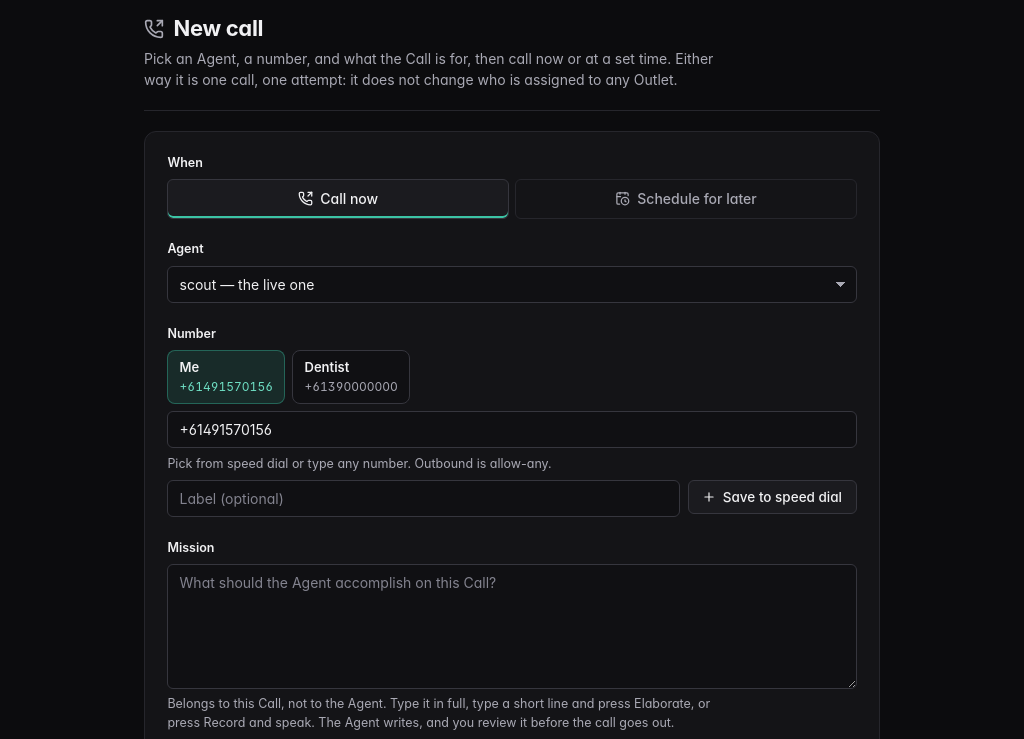
it: Place a call › puts an expanded Mission in the editable field and does not place
Select "scout — the live one" in the dropdown with test id "place-agent" at x=512, y=284, box [167,266,857,303]
Type "move thursday" into the text box with test id "place-mission" at x=512, y=626, box [167,564,857,689]
(page scrolled)
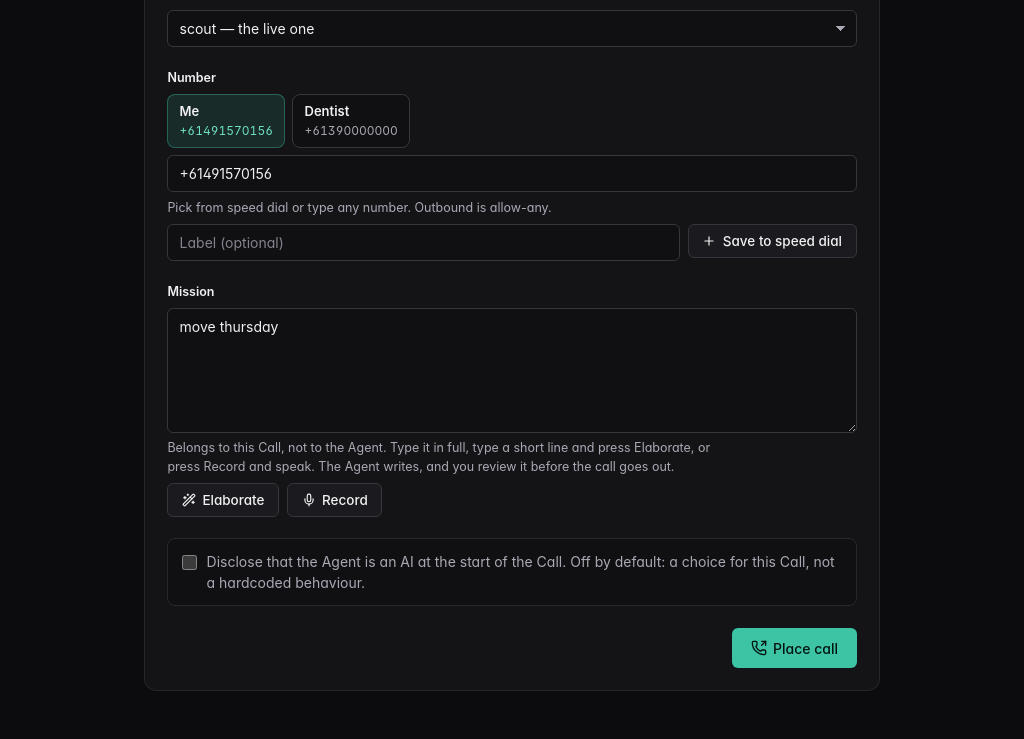
Click the button with test id "place-expand" at x=223, y=500, box [167,483,279,517]
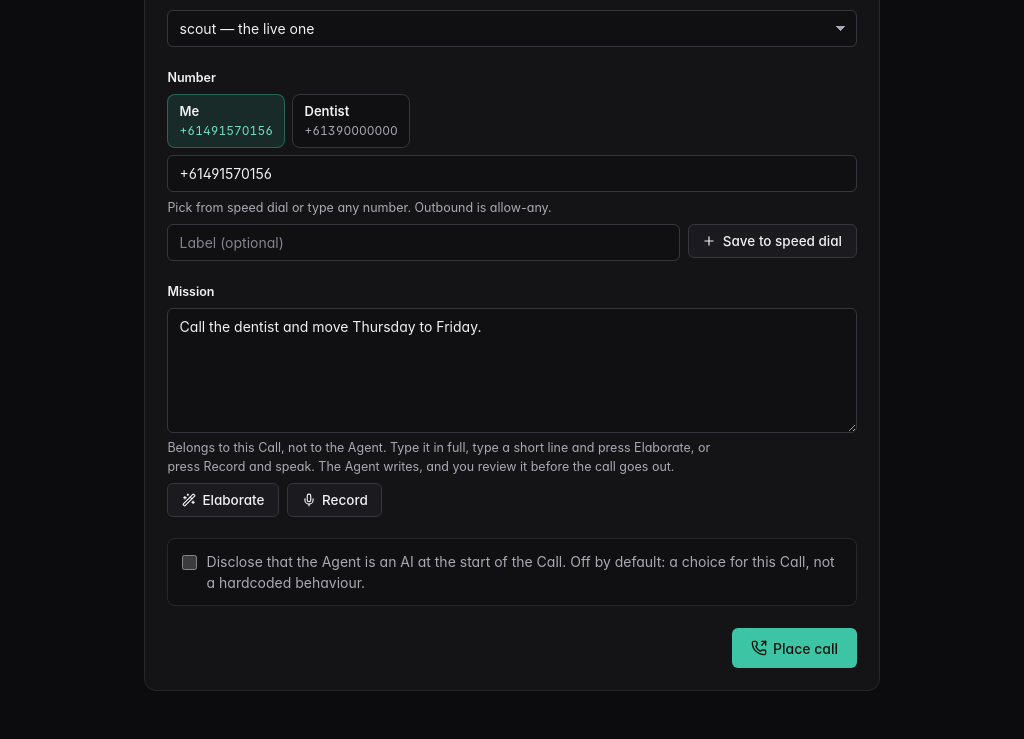
expect the text box with test id "place-mission" is enabled: met, box [167,308,857,433]
expect the text box with test id "place-mission" holds "Call the dentist and move Thursday to Friday.": met, box [167,308,857,433]
